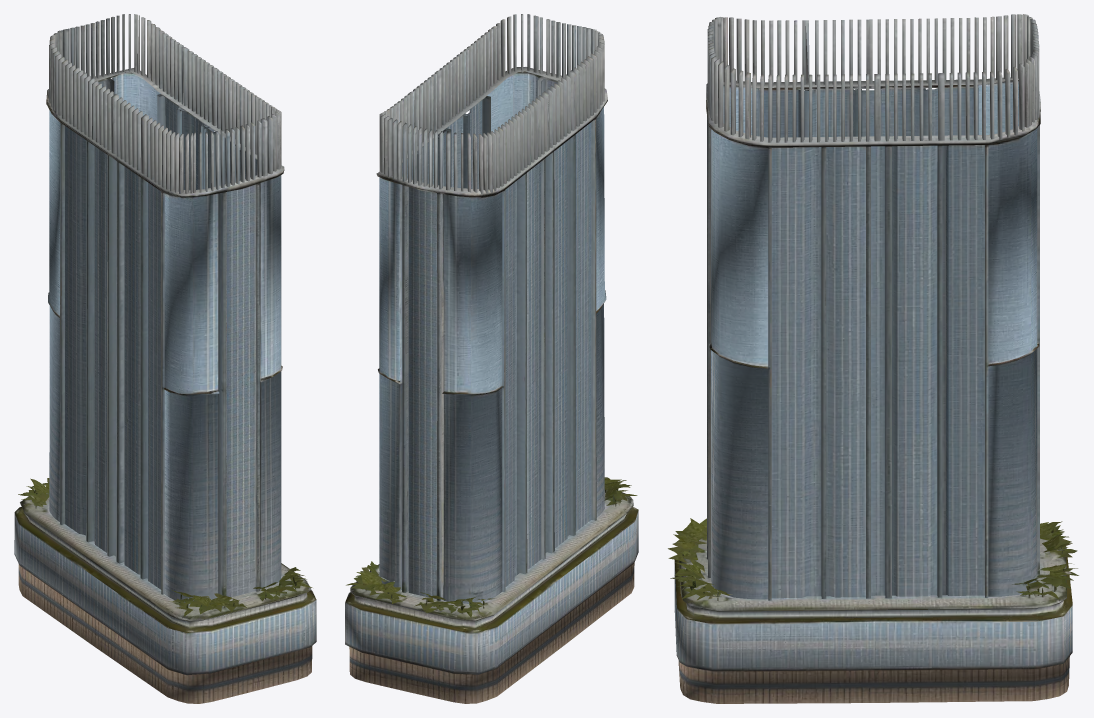
The model's file is tower_glass_a.glb.
3 views of the same model, side by side, from view 1: azimuth 30°, elevation 25°; view 2: azimuth 150°, elevation 25°; view 3: azimuth 270°, elevation 25° (orthographic). The views are drawn at different scales.
Visible parts, largest first — view 1: TesanaFacingY180; view 2: TesanaFacingY180; view 3: TesanaFacingY180.
Part boxes in pixels (left/top/right/bottom): TesanaFacingY180: left=14, top=14, right=316, bottom=703; TesanaFacingY180: left=345, top=14, right=638, bottom=703; TesanaFacingY180: left=668, top=14, right=1078, bottom=703.
Bounding box in the file's own units: 85.66 × 300 × 179.
Materials: 1 (1 with a texture image).
